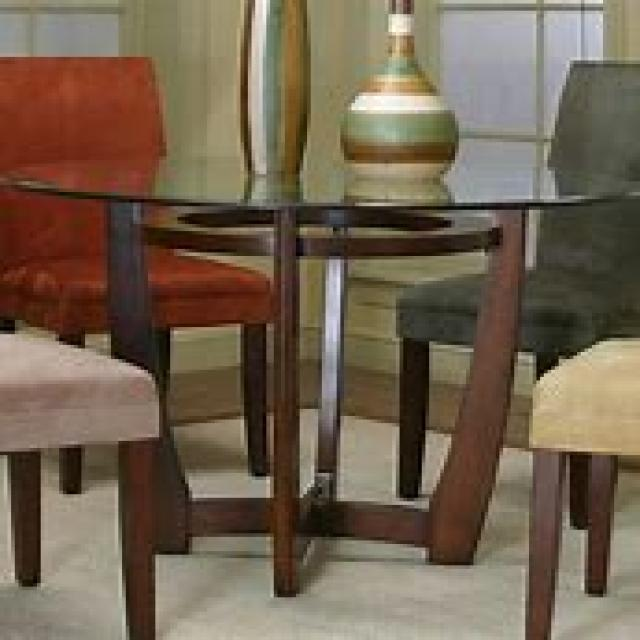chair: (392, 57, 636, 526)
table: (0, 139, 633, 590)
